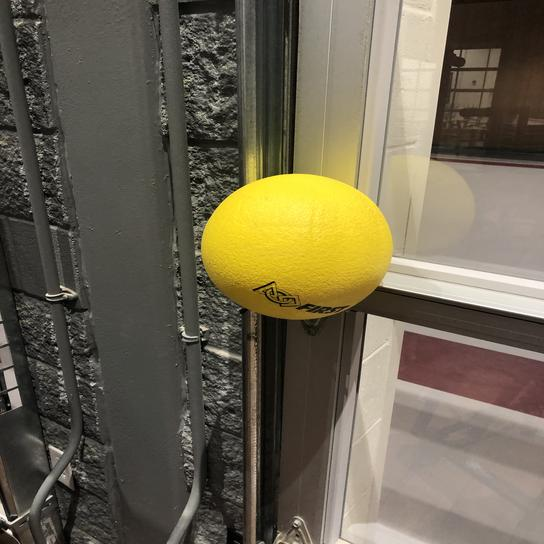ball: (199, 170, 395, 324)
